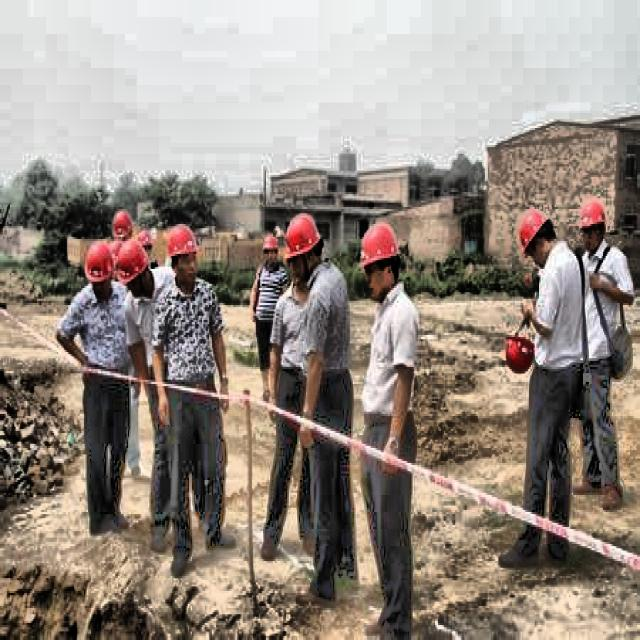helmet: (357, 218, 405, 300), (278, 209, 324, 286), (160, 220, 200, 288), (516, 207, 556, 264), (81, 236, 117, 298), (120, 237, 154, 301), (575, 194, 610, 252), (108, 203, 134, 254), (256, 228, 280, 269)
